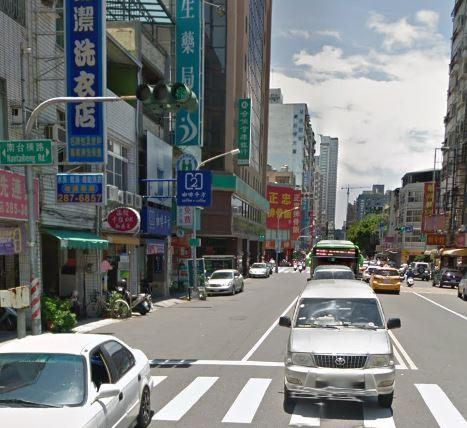green_traffic_light: (132, 81, 198, 111)
